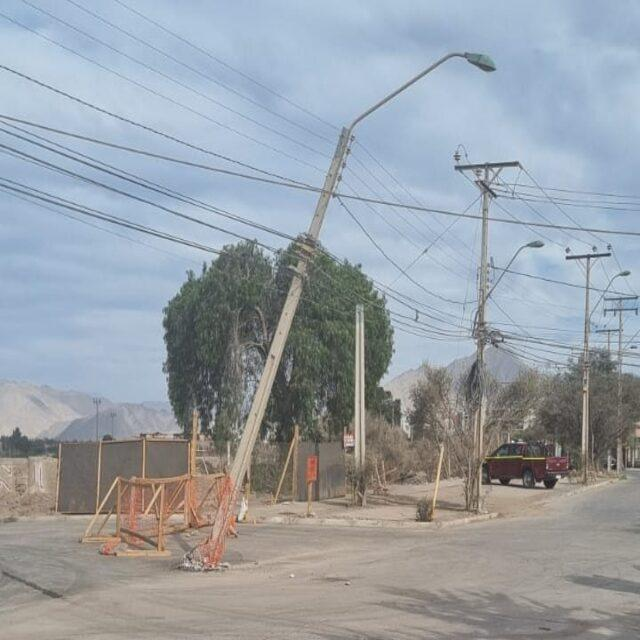Inclined Pole: (188, 48, 500, 567)
